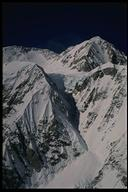mountain: (2, 31, 126, 189)
sky: (6, 5, 121, 34)
snow: (83, 129, 123, 185)
